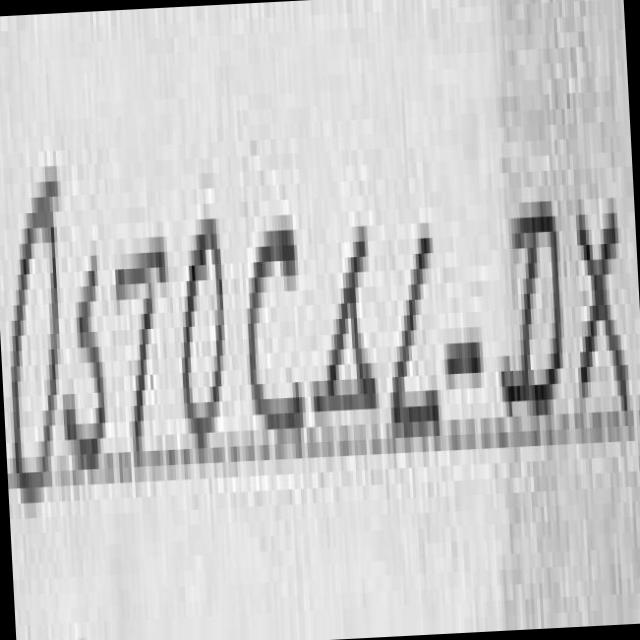A: (316, 226, 379, 412)
C: (250, 230, 303, 429)
D: (505, 201, 565, 422)
L: (394, 238, 442, 438)
O: (11, 181, 60, 503), (183, 219, 225, 448)
S: (79, 255, 106, 470)
T: (115, 237, 166, 459)
X: (580, 213, 631, 426)
